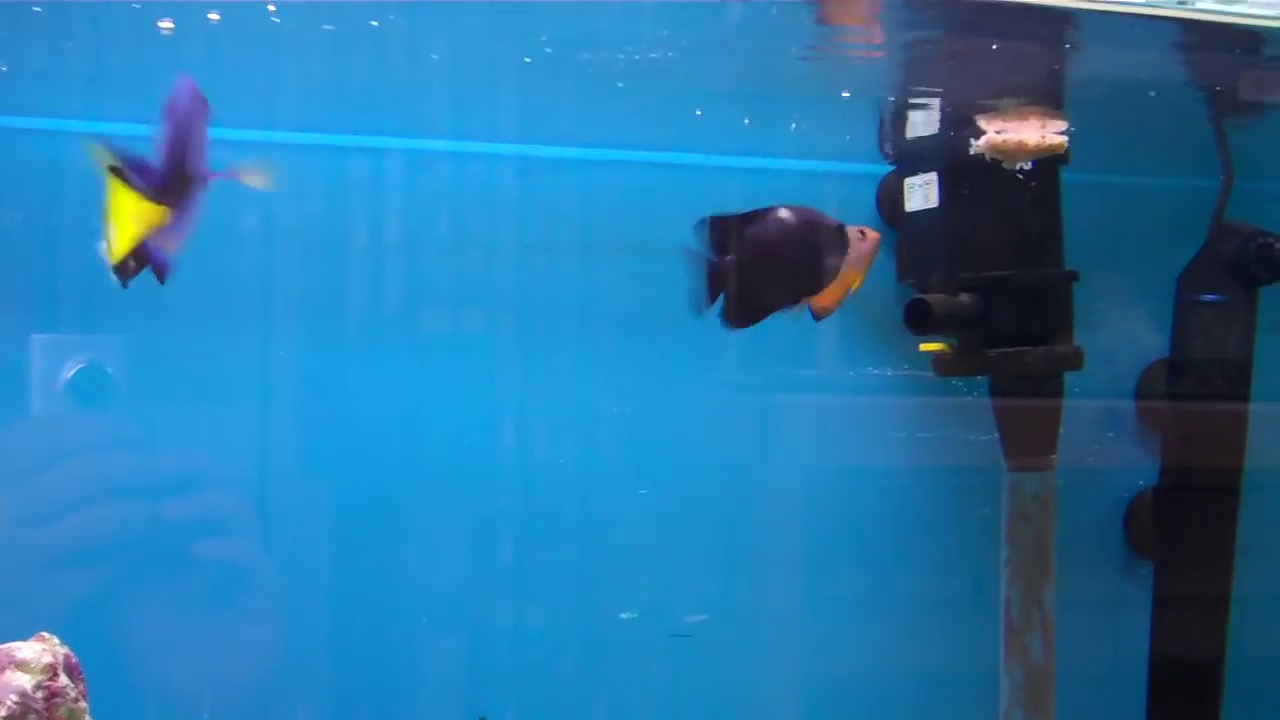blue tang surgeonfish: (80, 67, 239, 315)
